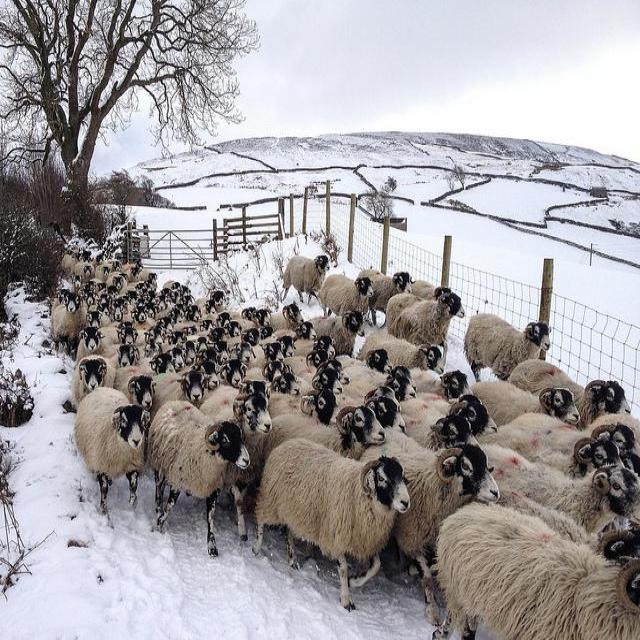Sheep: (50, 247, 639, 571), (249, 441, 414, 615), (361, 428, 501, 628), (435, 500, 639, 633), (149, 401, 251, 558), (481, 444, 639, 536), (75, 387, 153, 529), (201, 387, 272, 536), (485, 408, 617, 478), (263, 402, 387, 464), (463, 314, 551, 384), (401, 398, 499, 446), (113, 366, 159, 411), (245, 362, 284, 408)
